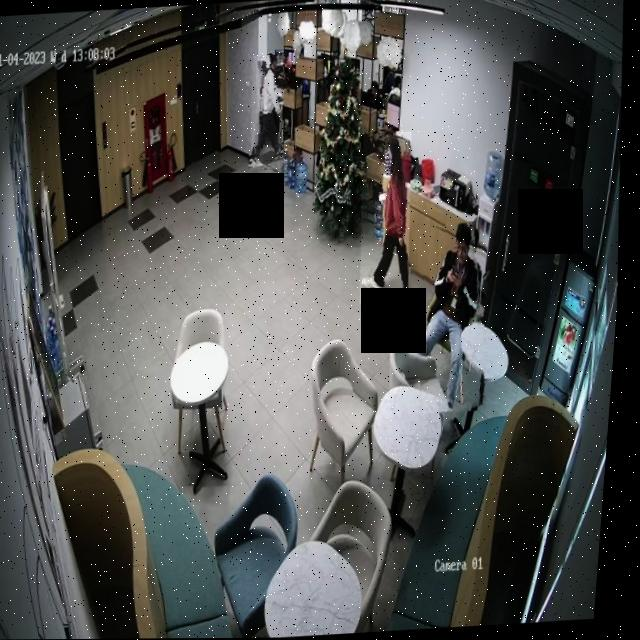person: (405, 223, 500, 416), (356, 131, 423, 305), (247, 55, 292, 171)
